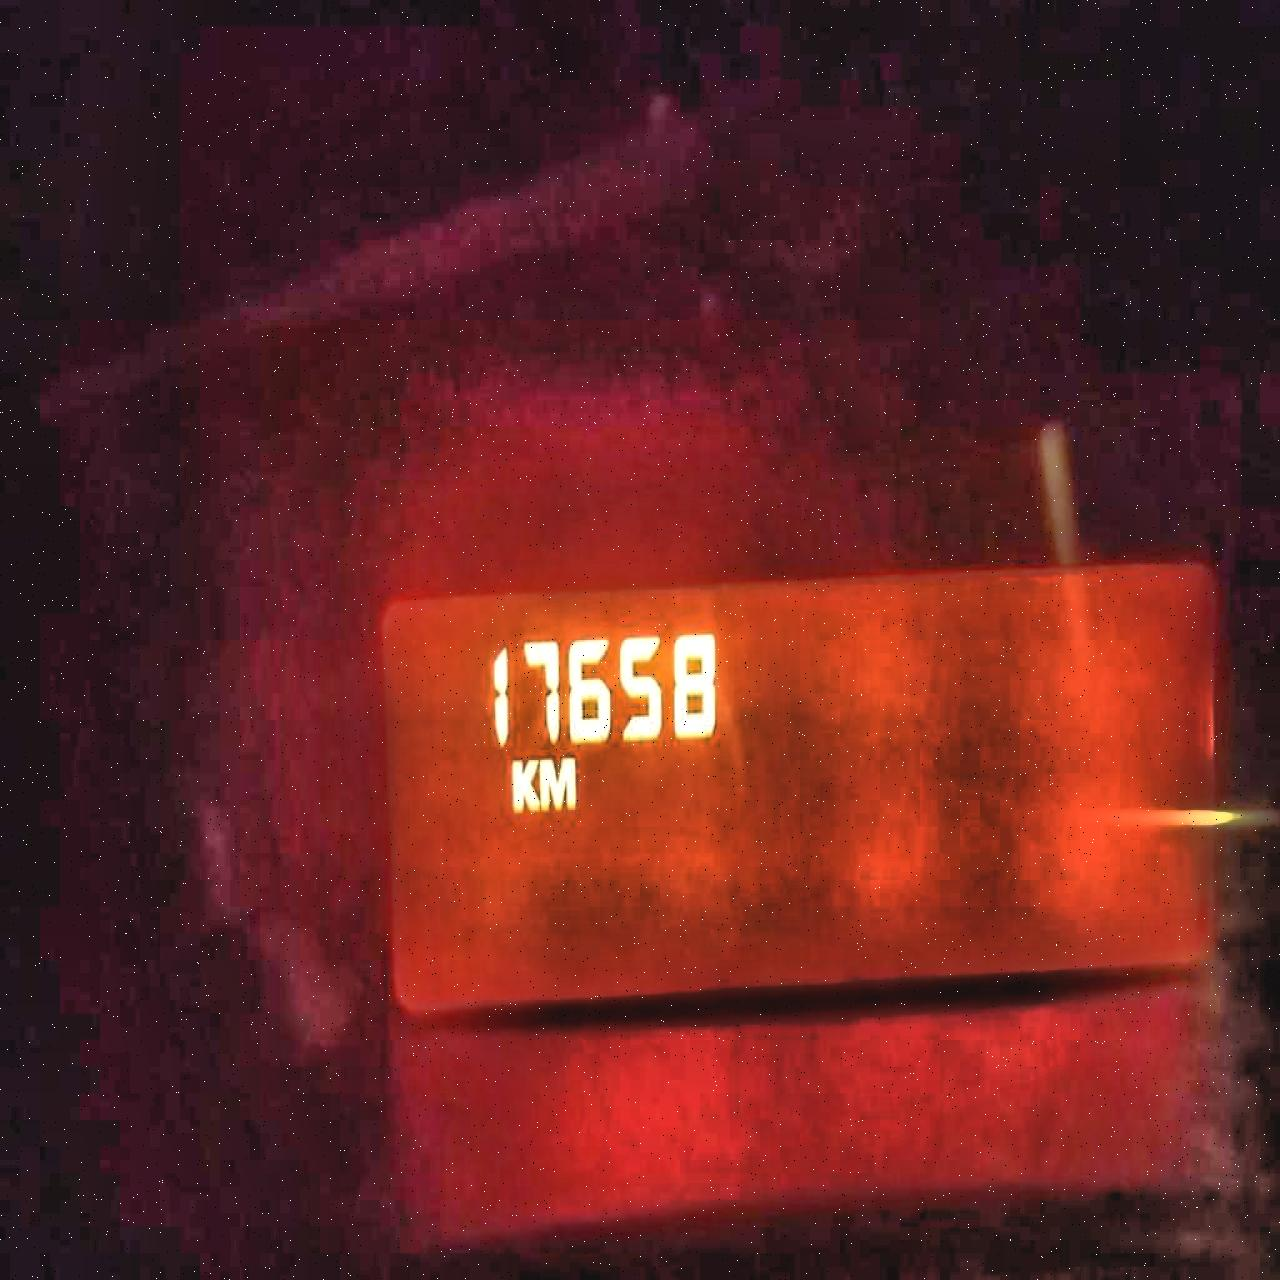1: (482, 640, 517, 750)
5: (615, 628, 665, 744)
6: (565, 632, 611, 747)
7: (517, 633, 563, 744)
8: (667, 628, 717, 743)
X: (538, 754, 579, 812), (508, 754, 538, 817)
odometer: (358, 545, 1228, 1022)
